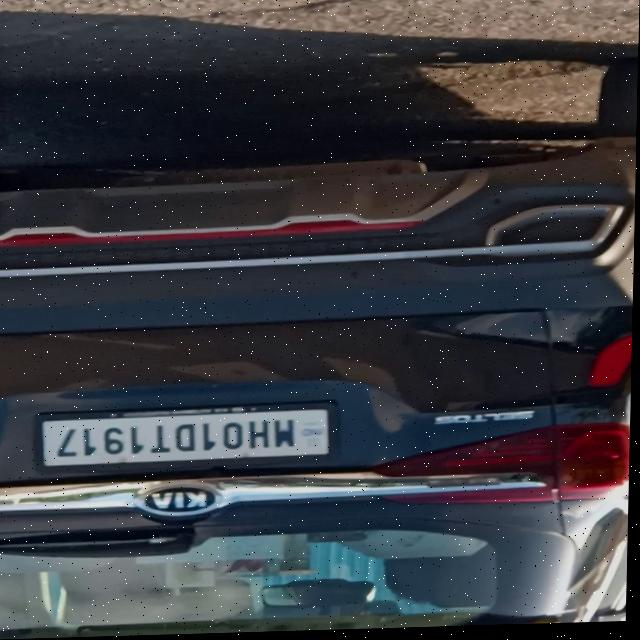plate: (36, 405, 339, 469)
